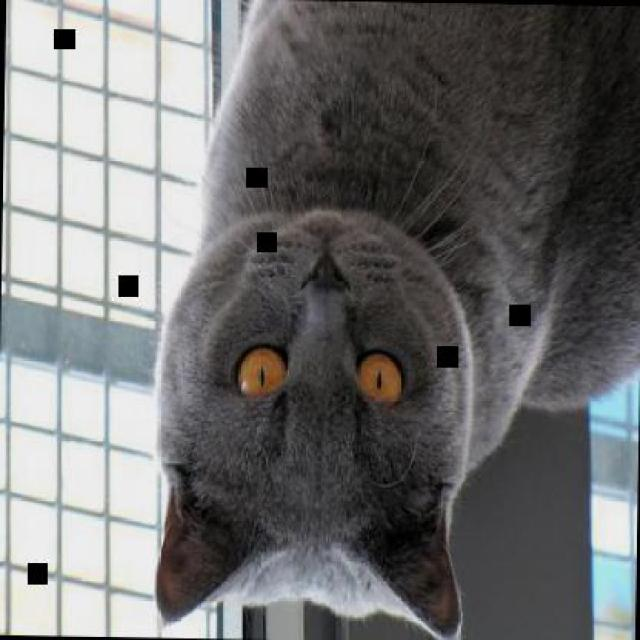cat: (149, 0, 638, 638)
